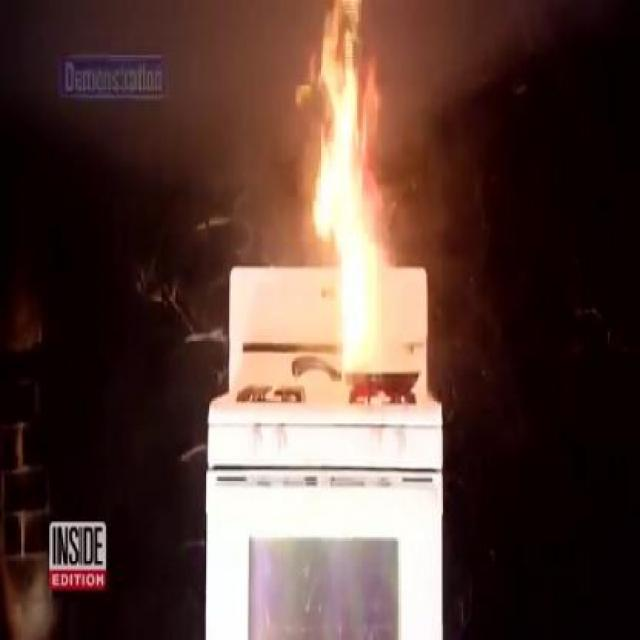fire: (289, 12, 400, 372)
